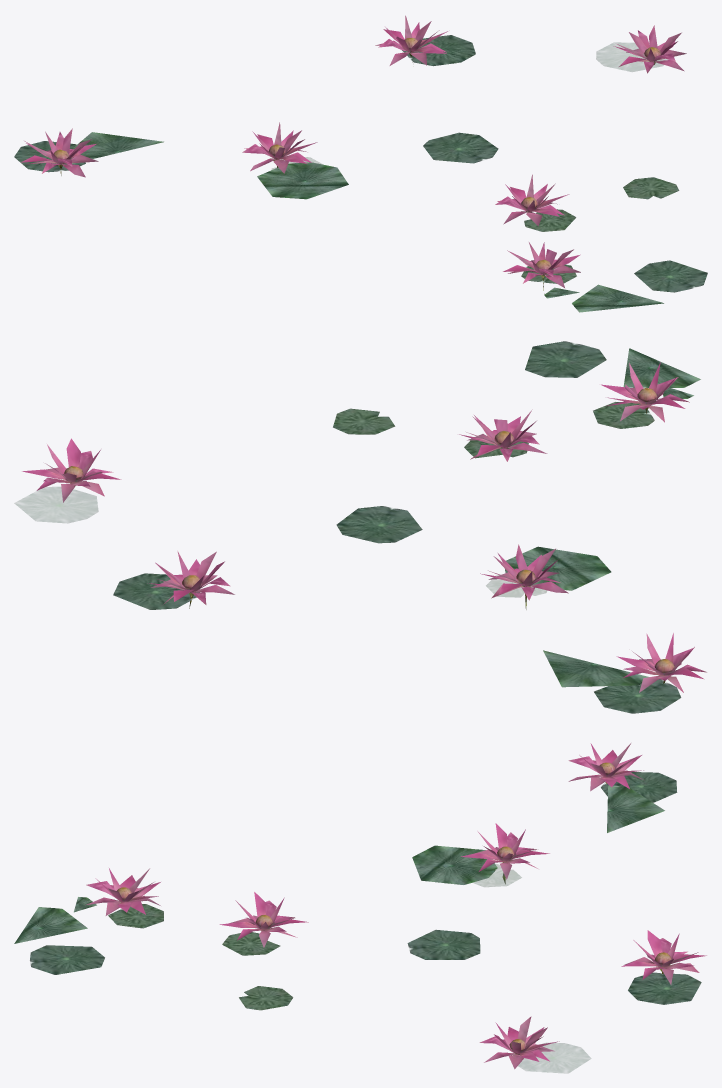
File: sen.glb
The picture shows the model from 3 angles, top to bottom: view 1: azimuth 30°, elevation 25°; view 2: azimuth 150°, elevation 25°; view 3: azimuth 270°, elevation 25°; orthographic projection. The views are drawn at different scales.
Parts seen in each view (by area): view 1: 12_Pcs_Lotus_Leaves_High_Quality_Durable_Prime_Sturdy_Lotus. (×11), 12_Pcs_Lotus_Leaves_High_Quality_Durable_Prime_Sturdy_Lotus_; view 2: 12_Pcs_Lotus_Leaves_High_Quality_Durable_Prime_Sturdy_Lotus. (×11), 12_Pcs_Lotus_Leaves_High_Quality_Durable_Prime_Sturdy_Lotus_; view 3: 12_Pcs_Lotus_Leaves_High_Quality_Durable_Prime_Sturdy_Lotus. (×11), 12_Pcs_Lotus_Leaves_High_Quality_Durable_Prime_Sturdy_Lotus_.
Boxes of the visible parts, bbox=[...] form: 12_Pcs_Lotus_Leaves_High_Quality_Durable_Prime_Sturdy_Lotus. (×11): bbox=[14, 15, 707, 294]; 12_Pcs_Lotus_Leaves_High_Quality_Durable_Prime_Sturdy_Lotus_: bbox=[572, 284, 663, 312]; 12_Pcs_Lotus_Leaves_High_Quality_Durable_Prime_Sturdy_Lotus. (×11): bbox=[14, 341, 706, 713]; 12_Pcs_Lotus_Leaves_High_Quality_Durable_Prime_Sturdy_Lotus_: bbox=[623, 348, 700, 387]; 12_Pcs_Lotus_Leaves_High_Quality_Durable_Prime_Sturdy_Lotus. (×11): bbox=[30, 743, 706, 1073]; 12_Pcs_Lotus_Leaves_High_Quality_Durable_Prime_Sturdy_Lotus_: bbox=[14, 907, 87, 943].
Bounding box in the file's own units: 0.9986 × 0.0748 × 0.9354.
Materials: 3 (3 with a texture image).
